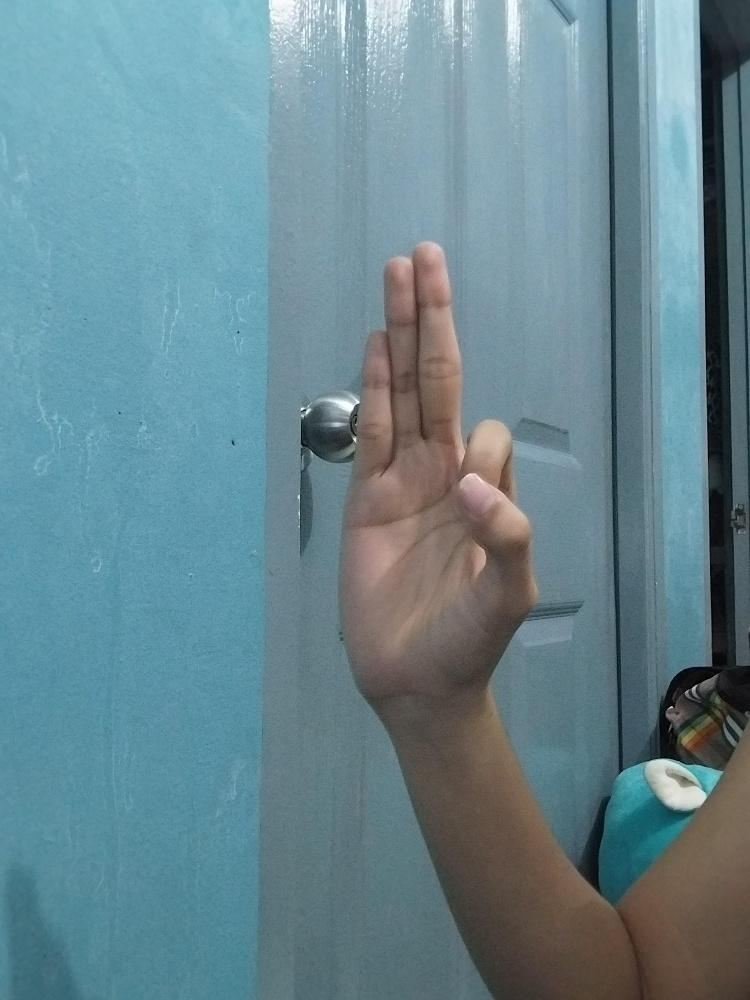f: (340, 242, 538, 690)
